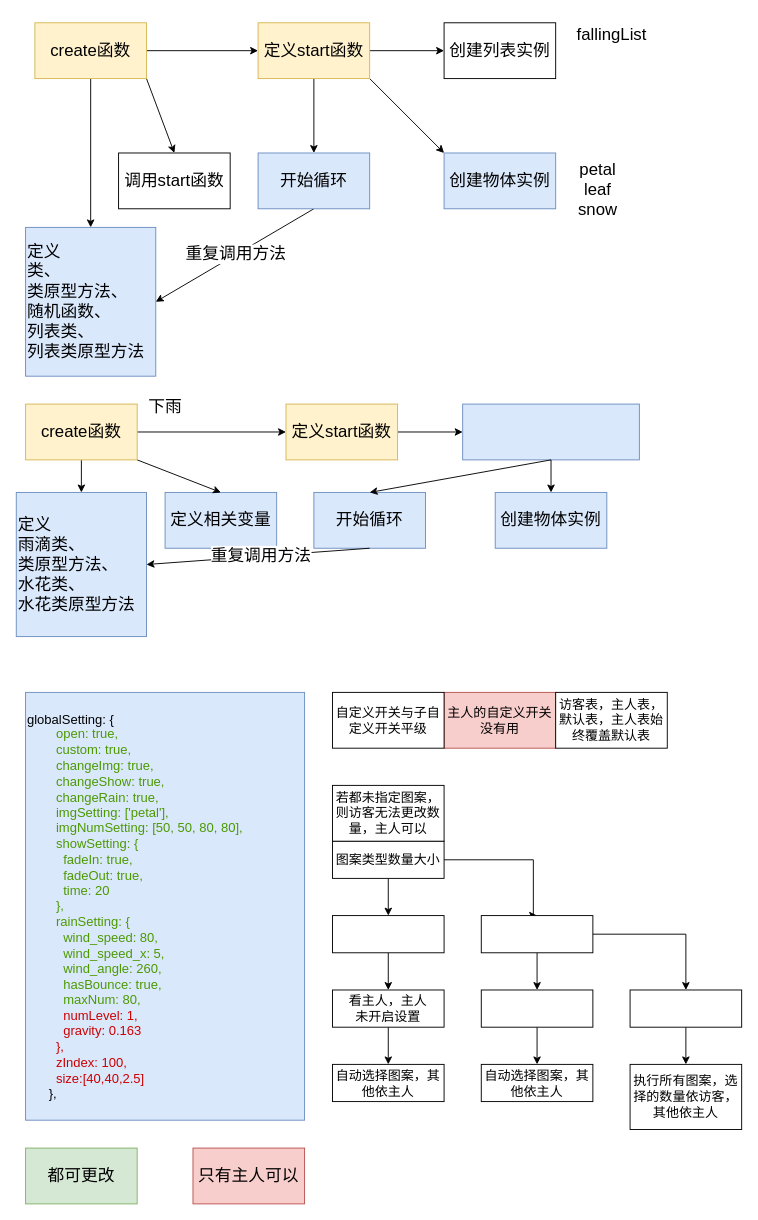
Some shapes in this 758 by 1220 pixel diagram are drawn without their labels. The shapes that lost their labels are listed below. From the top down, each one's centre as x and y in pixels, then its label:
At pixel 550 431: "定义updateRain函数".
At pixel 388 934: "访客未开启设置".
At pixel 536 934: "访客开启设置".
At pixel 536 1008: "访客未选择任一个".
At pixel 685 1008: "访客有选择至少一个".
